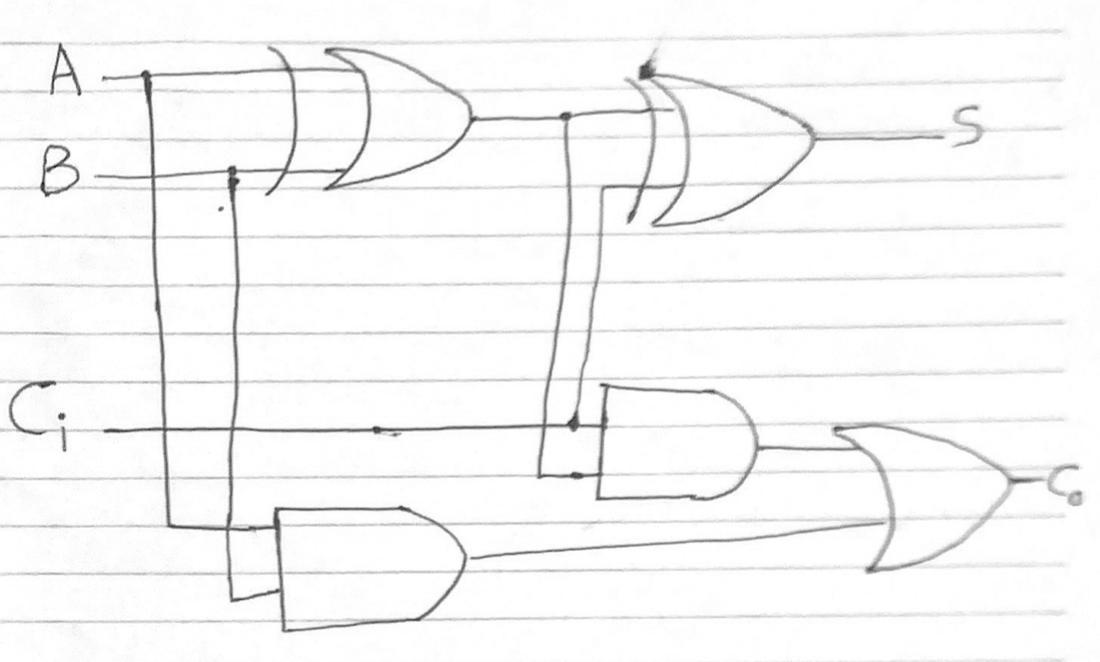AND: (256, 491, 479, 644), (591, 371, 774, 512)
OR: (822, 399, 1030, 584)
XOR: (245, 21, 495, 213), (609, 45, 828, 235)
